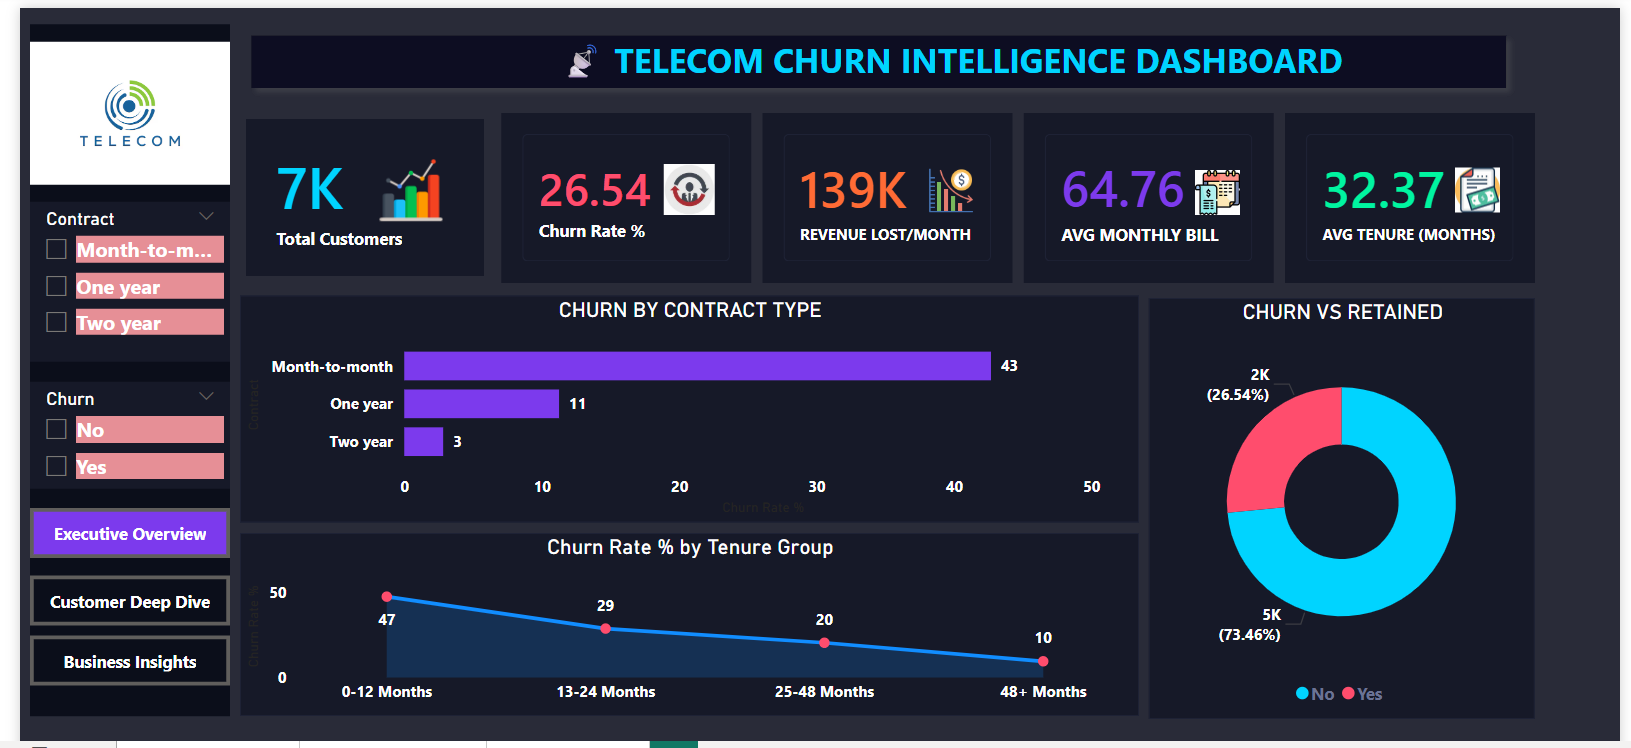

The page's visual inventory and layout, read from the dashboard file:
{"tool":"powerbi","page":{"name":"Executive Overview","canvas":[1280,720],"ordinal":0},"visuals":[{"type":"cardVisual","fields":{"Data":["WA_Fn-UseC_-Telco-Customer-Churn.Total Customers"]},"box":[176,84,200,136],"z":0},{"type":"shape","box":[8,13,160,554],"z":1000},{"type":"shape","box":[176,13,1022,60],"z":2000},{"type":"textbox","box":[215,18,1060,50],"z":3000},{"type":"cardVisual","fields":{"Data":["WA_Fn-UseC_-Telco-Customer-Churn.Churn Rate %"]},"box":[385,84,200,136],"z":4000},{"type":"cardVisual","fields":{"Data":["WA_Fn-UseC_-Telco-Customer-Churn.Revenue Lost"]},"box":[594,84,200,136],"z":5000},{"type":"cardVisual","fields":{"Data":["WA_Fn-UseC_-Telco-Customer-Churn.Avg Monthly Charges"]},"box":[803,84,200,136],"z":6000},{"type":"cardVisual","fields":{"Data":["WA_Fn-UseC_-Telco-Customer-Churn.Avg Tenure"]},"box":[1012,84,200,136],"z":7000},{"type":"donutChart","title":"CHURN VS RETAINED","fields":{"Category":["WA_Fn-UseC_-Telco-Customer-Churn.Churn"],"Y":["WA_Fn-UseC_-Telco-Customer-Churn.Total Customers"]},"box":[903,232,309,337],"z":8000},{"type":"clusteredBarChart","title":"CHURN BY CONTRACT TYPE","fields":{"Category":["WA_Fn-UseC_-Telco-Customer-Churn.Contract"],"Y":["WA_Fn-UseC_-Telco-Customer-Churn.Churn Rate %"]},"box":[176,230,719,182],"z":9000},{"type":"lineChart","fields":{"Category":["WA_Fn-UseC_-Telco-Customer-Churn.Tenure Group"],"Y":["WA_Fn-UseC_-Telco-Customer-Churn.Churn Rate %"]},"box":[176,420,719,147],"z":10000},{"type":"image","box":[8,23,160,123],"z":11000},{"type":"actionButton","box":[8,400,160,40],"z":12000},{"type":"actionButton","box":[8,454,160,40],"z":13000},{"type":"actionButton","box":[8,502,160,40],"z":14000},{"type":"slicer","fields":{"Values":["WA_Fn-UseC_-Telco-Customer-Churn.Contract"]},"box":[8,155,160,128],"z":15000},{"type":"slicer","fields":{"Values":["WA_Fn-UseC_-Telco-Customer-Churn.Churn"]},"box":[8,299,160,86],"z":16000},{"type":"image","box":[286,121,54,50],"z":17000},{"type":"image","box":[515.4,124,40.4,43.3],"z":18000},{"type":"image","box":[726,127.9,38.5,36.5],"z":19000},{"type":"image","box":[940.4,124,35.6,48.1],"z":20000},{"type":"image","box":[1148.1,118.3,35.6,55.8],"z":21000}]}

Visuals, with their boxes on the page's 1280x720 design canvas (x1, y1, x2, y2). These are canvas units, not pixel positions in the 1631x748 screenshot, which may show the page scaled, cropped or inside an application window:
cardVisual - WA_Fn-UseC_-Telco-Customer-Churn.Total Customers: 176/84/376/220
shape: 8/13/168/567
shape: 176/13/1198/73
textbox: 215/18/1275/68
cardVisual - WA_Fn-UseC_-Telco-Customer-Churn.Churn Rate %: 385/84/585/220
cardVisual - WA_Fn-UseC_-Telco-Customer-Churn.Revenue Lost: 594/84/794/220
cardVisual - WA_Fn-UseC_-Telco-Customer-Churn.Avg Monthly Charges: 803/84/1003/220
cardVisual - WA_Fn-UseC_-Telco-Customer-Churn.Avg Tenure: 1012/84/1212/220
"CHURN VS RETAINED" donutChart: 903/232/1212/569
"CHURN BY CONTRACT TYPE" clusteredBarChart: 176/230/895/412
lineChart - WA_Fn-UseC_-Telco-Customer-Churn.Tenure Group x WA_Fn-UseC_-Telco-Customer-Churn.Churn Rate %: 176/420/895/567
image: 8/23/168/146
actionButton: 8/400/168/440
actionButton: 8/454/168/494
actionButton: 8/502/168/542
slicer - WA_Fn-UseC_-Telco-Customer-Churn.Contract: 8/155/168/283
slicer - WA_Fn-UseC_-Telco-Customer-Churn.Churn: 8/299/168/385
image: 286/121/340/171
image: 515/124/556/167
image: 726/128/764/164
image: 940/124/976/172
image: 1148/118/1184/174
